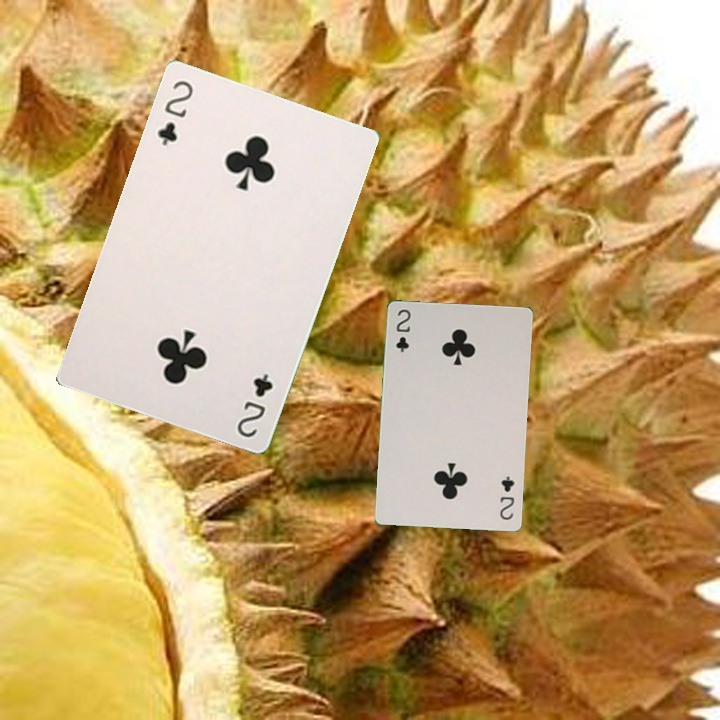2c: (232, 369, 276, 441), (153, 76, 196, 148), (496, 472, 517, 522), (392, 305, 413, 355)
